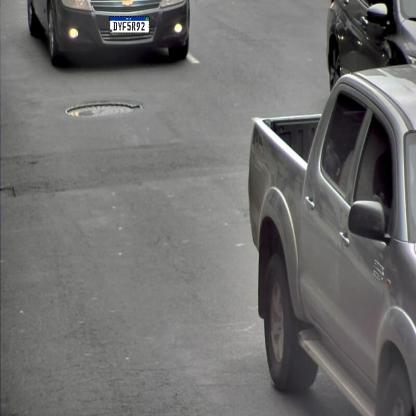PlacaM: (109, 16, 150, 33)
